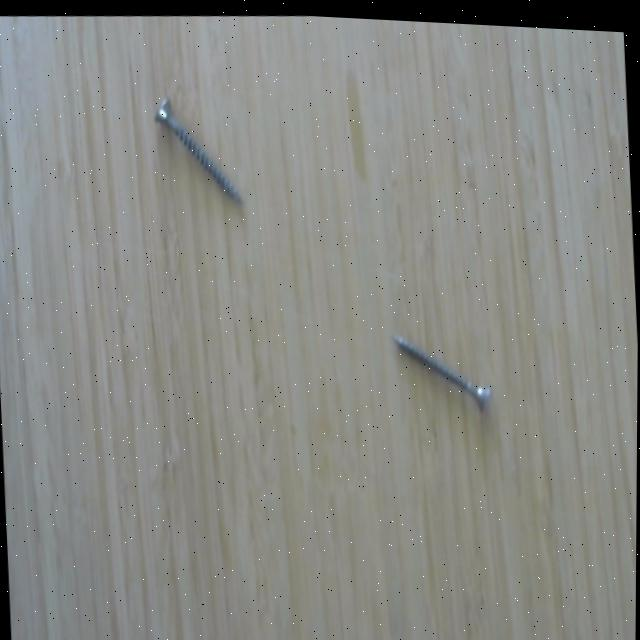Black screw: (147, 88, 255, 216), (390, 321, 500, 408)
